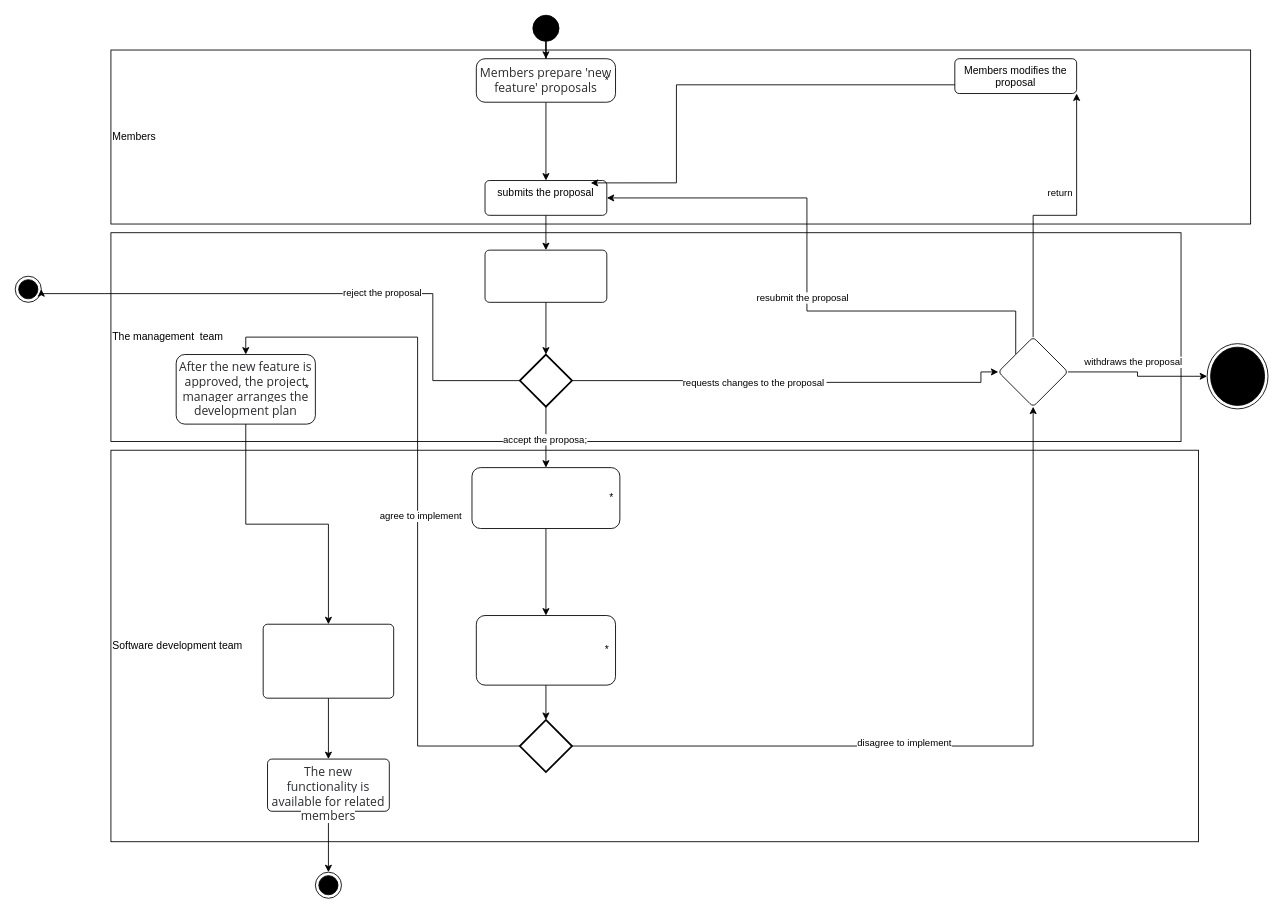
The diagram is 1283 pixels wide and 914 high, and some of its shapes have lost their labels. Here are the shapes that lost their labels. From the top down, the centre of each, then its label:
At pixel 545 275: "The management team meets to review the proposal".
At pixel 545 498: "Accepted proposals are forwarded to the software development team".
At pixel 328 660: "The software development team builds the functionality into the system".
At pixel 545 650: "The software development team meets to discuss new requirements".
